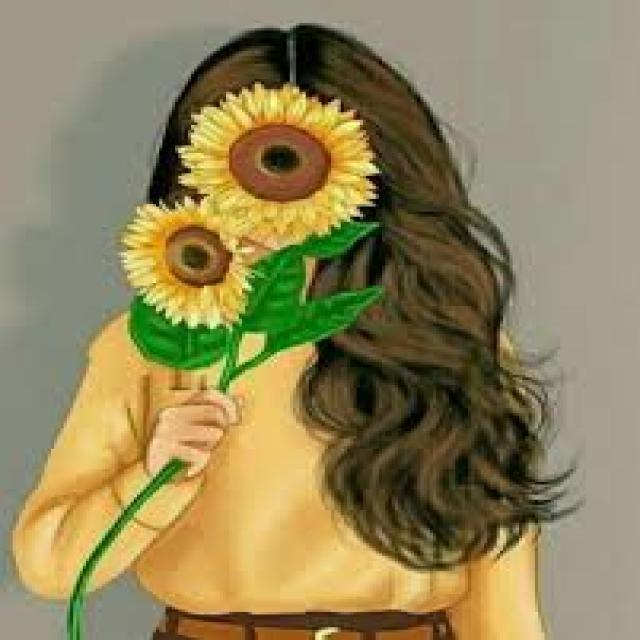sunflower: (172, 79, 379, 250), (118, 194, 262, 329)
